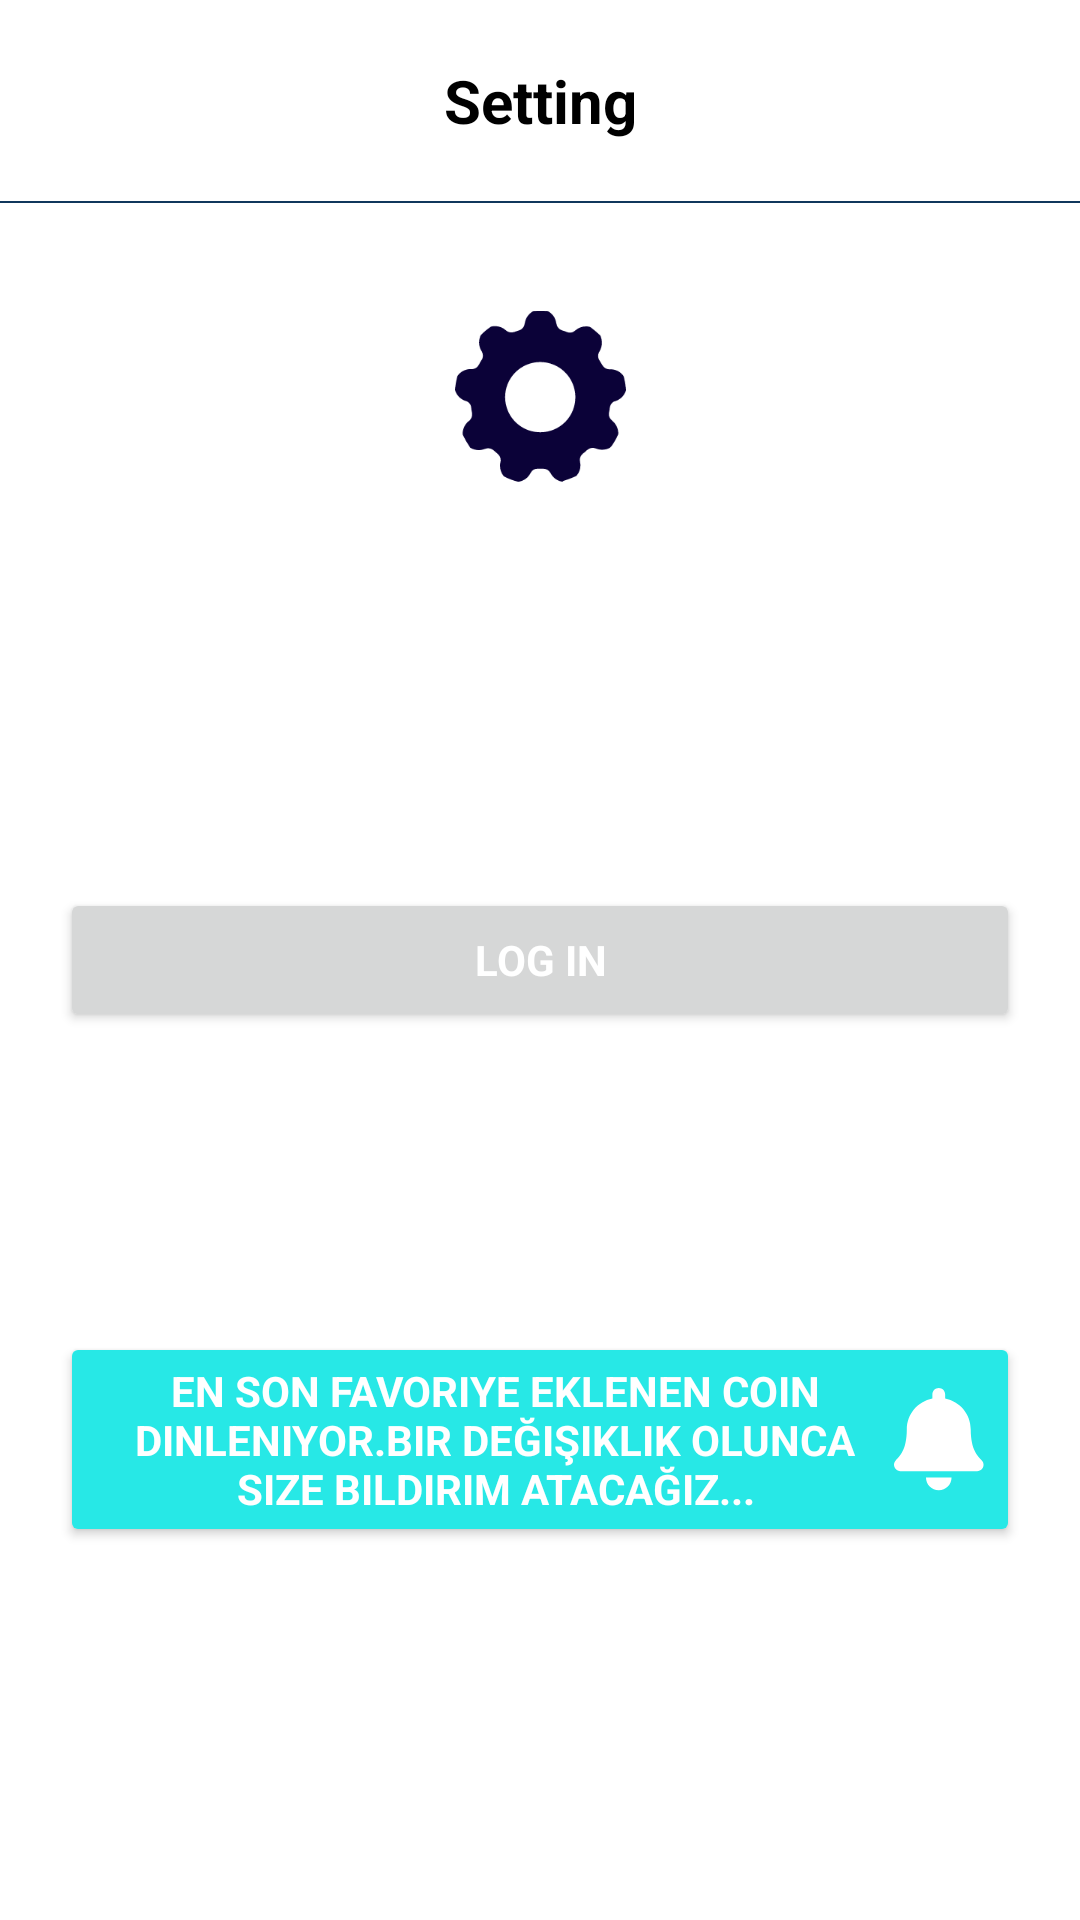

Where icons sit on this 1080px×1920px app screen, as (left=x1, top=y1, right=x2, bottom=y2):
setting: (left=455, top=311, right=626, bottom=482)
